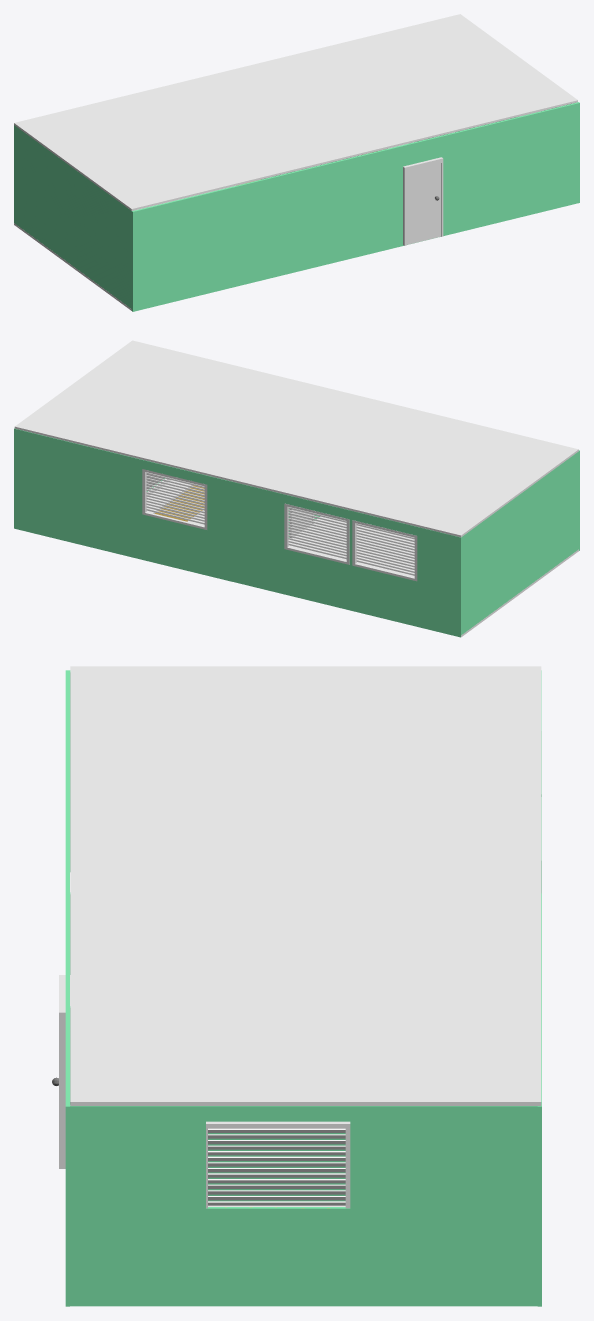
The model's file is Room.fbx.
The picture shows the model from 3 angles, top to bottom: view 1: azimuth 30°, elevation 25°; view 2: azimuth 150°, elevation 25°; view 3: azimuth 270°, elevation 25°; orthographic projection. The views are drawn at different scales.
Parts seen in each view (by area): view 1: pCube79, pCube59, pCube2, pCube72; view 2: pCube79, pCube74, pCube3, pCube2, pCube31 (×3), pCube1, pCube71 (×2); view 3: pCube79, pCube77, pCube73, pCube59, pCube31, pCube72, pCube74.
Part boxes in pixels (x1,y1,x2,y2): pCube79: [14, 14, 577, 210]; pCube59: [132, 102, 579, 311]; pCube2: [14, 125, 131, 310]; pCube72: [403, 157, 443, 245]; pCube79: [14, 340, 578, 537]; pCube74: [14, 428, 232, 581]; pCube3: [232, 482, 461, 637]; pCube2: [461, 451, 578, 634]; pCube31 (×3): [142, 469, 417, 581]; pCube1: [187, 510, 578, 637]; pCube71 (×2): [146, 478, 414, 576]; pCube79: [70, 666, 541, 1105]; pCube77: [65, 1104, 537, 1306]; pCube73: [65, 1006, 345, 1201]; pCube59: [65, 670, 69, 1306]; pCube31: [206, 1121, 350, 1208]; pCube72: [59, 975, 70, 1168]; pCube74: [537, 893, 541, 1306].
Size of the model in its own units: 1170 by 255 by 555.
